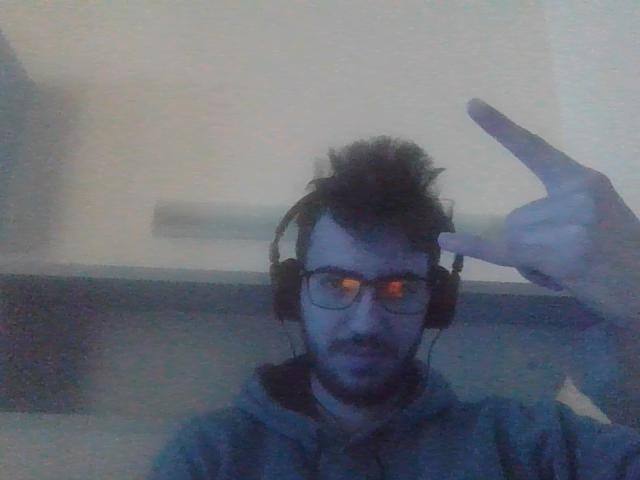iloveyou: (433, 93, 640, 328)
